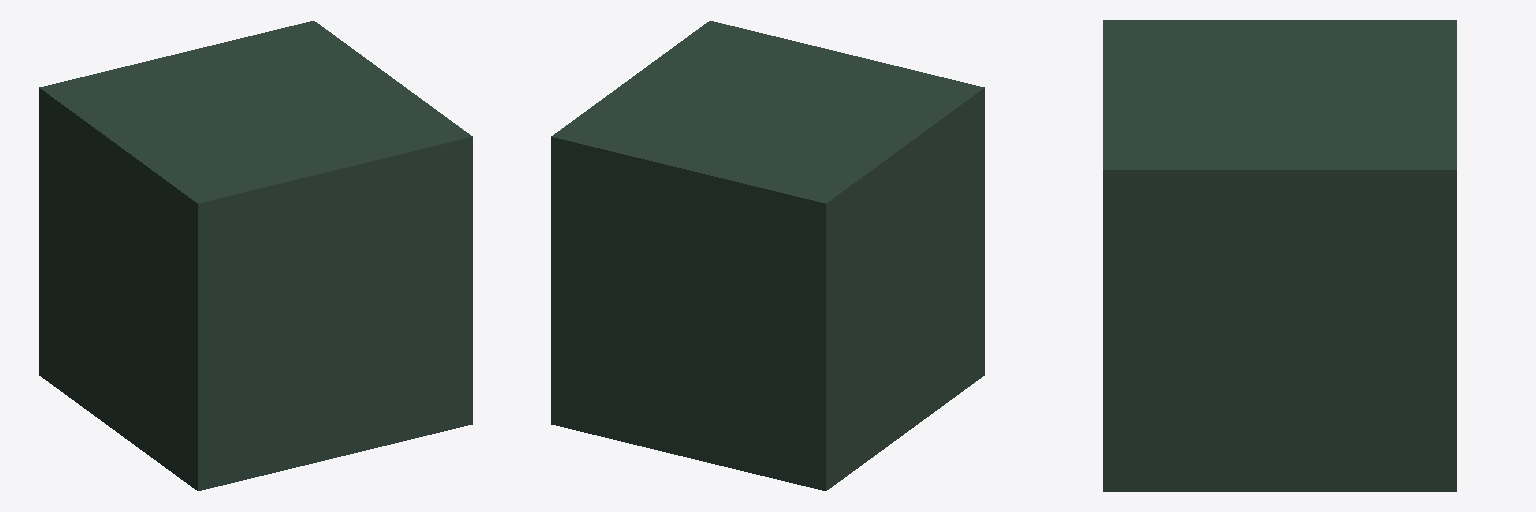
The robot description file, URDF, robot "random_box":
<?xml version='1.0' encoding='UTF-8'?>
<robot name="random_box">
  <link name="box">
    <visual>
      <geometry>
        <box size="0.05 0.05 0.05"/>
      </geometry>
      <material name="color">
        <color rgba="0.2637620652243938 0.34513028300895543 0.30204212745843495 1"/>
      </material>
    </visual>
    <collision>
      <geometry>
        <box size="0.05 0.05 0.05"/>
      </geometry>
    </collision>
  </link>
</robot>

--- Facts derived from the render (not from the file) ---
Views: 3 orthographic renders of the robot side by side, from view 1: azimuth 30°, elevation 25°; view 2: azimuth 150°, elevation 25°; view 3: azimuth 270°, elevation 25°.
Model random_box with 1 links and 0 joints (none), rooted at box, posed every joint at zero.
Visible links, largest first — view 1: box; view 2: box; view 3: box.
Link boxes in pixels (left/top/right/bottom): box: left=39, top=21, right=472, bottom=490; box: left=551, top=21, right=984, bottom=490; box: left=1103, top=20, right=1456, bottom=491.
Size in the robot's own frame: 0.05 by 0.05 by 0.05 metres.
Geometry: primitives only (box / cylinder / sphere), no mesh files.